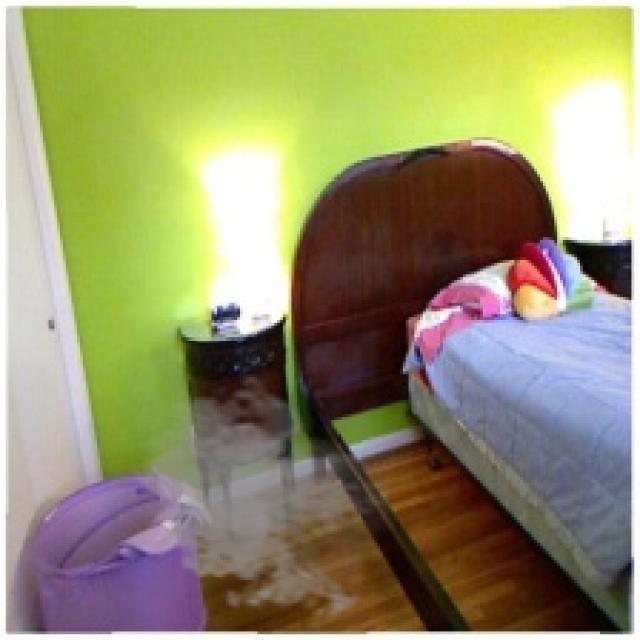smoke: (129, 371, 397, 623)
